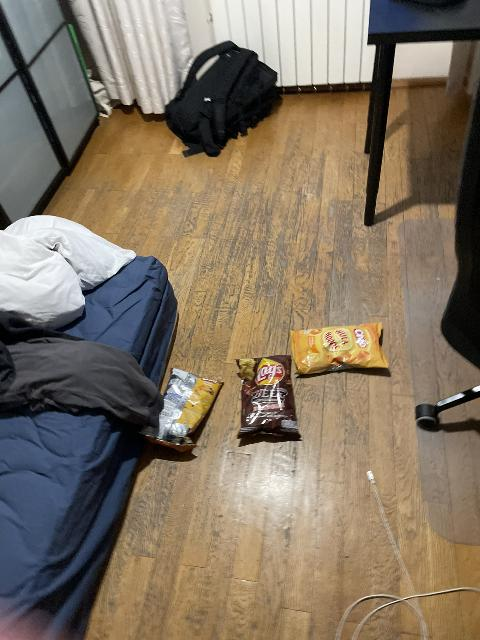Chio Cascaval 125g: (142, 367, 223, 450)
Chio Hula Hoops Cheese 70g: (296, 321, 386, 370)
Lays Beef Grilled Ribs 125g: (235, 356, 301, 441)
